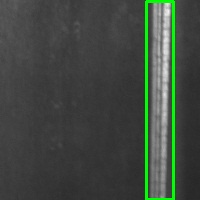scratches: (146, 1, 173, 199)
